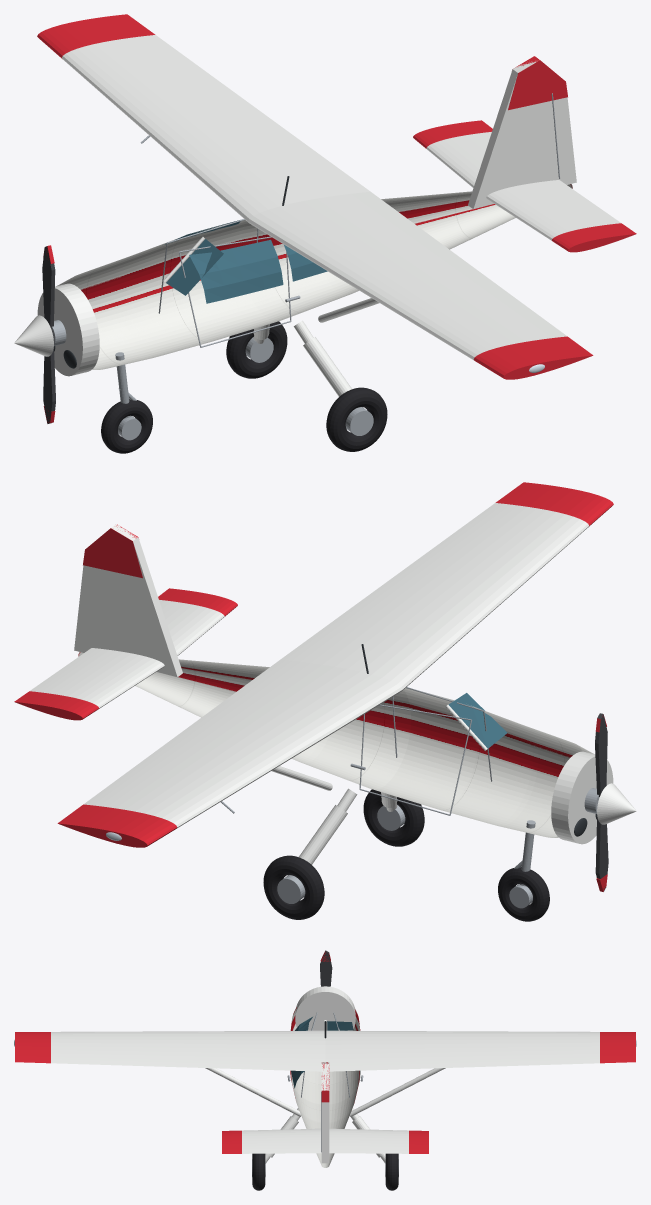
3 views of the same model, one above another, from view 1: azimuth 30°, elevation 25°; view 2: azimuth 150°, elevation 25°; view 3: azimuth 270°, elevation 25° (orthographic). The views are drawn at different scales.
Visible parts, largest first — view 1: Wing_Main_White, Fuselage_Textured, Vertical_Stabilizer, Horizontal_Stabilizer, Window_Front_L, Engine_Cowling, Wing_Tip_L, Wing_Tip_R, Main_Wheel_Tire_L, Vertical_Stabilizer_Red_Tip, Main_Wheel_Tire_R, Nose_Wheel_Tire (+9 smaller); view 2: Wing_Main_White, Fuselage_Textured, Vertical_Stabilizer, Horizontal_Stabilizer, Engine_Cowling, Wing_Tip_R, Wing_Tip_L, Main_Wheel_Tire_R, Vertical_Stabilizer_Red_Tip, Main_Wheel_Tire_L, Nose_Wheel_Tire, Horizontal_Tip_R (+7 smaller); view 3: Wing_Main_White, Horizontal_Stabilizer, Fuselage_Textured, Engine_Cowling, Wing_Tip_R, Wing_Tip_L, Vertical_Stabilizer, Wing_Strut_R, Wing_Strut_L, Main_Wheel_Tire_R, Main_Wheel_Tire_L, Horizontal_Tip_R (+2 smaller).
Part boxes in pixels (x1,y1,x2,y2): Wing_Main_White: (62, 35, 567, 360); Fuselage_Textured: (56, 184, 572, 369); Vertical_Stabilizer: (468, 61, 576, 209); Horizontal_Stabilizer: (426, 132, 621, 240); Window_Front_L: (189, 239, 283, 303); Engine_Cowling: (37, 283, 99, 376); Wing_Tip_L: (473, 336, 593, 379); Wing_Tip_R: (37, 14, 155, 58); Main_Wheel_Tire_L: (326, 387, 387, 451); Vertical_Stabilizer_Red_Tip: (508, 56, 567, 110); Main_Wheel_Tire_R: (226, 321, 287, 378); Nose_Wheel_Tire: (101, 399, 152, 453); Wing_Main_White: (83, 503, 588, 828); Fuselage_Textured: (78, 652, 594, 837); Vertical_Stabilizer: (74, 524, 182, 677); Horizontal_Stabilizer: (29, 600, 224, 708); Engine_Cowling: (551, 751, 613, 844); Wing_Tip_R: (57, 804, 177, 847); Wing_Tip_L: (495, 482, 613, 526); Main_Wheel_Tire_R: (263, 855, 324, 919); Vertical_Stabilizer_Red_Tip: (83, 524, 142, 578); Main_Wheel_Tire_L: (363, 789, 424, 846); Nose_Wheel_Tire: (498, 867, 549, 921); Horizontal_Tip_R: (14, 691, 98, 720); Wing_Main_White: (51, 1030, 599, 1071); Horizontal_Stabilizer: (242, 1128, 408, 1153); Fuselage_Textured: (290, 999, 360, 1167); Engine_Cowling: (295, 986, 355, 1030); Wing_Tip_R: (600, 1032, 635, 1063); Wing_Tip_L: (15, 1032, 50, 1063); Vertical_Stabilizer: (321, 1062, 329, 1163); Wing_Strut_R: (349, 1068, 445, 1116); Wing_Strut_L: (205, 1068, 301, 1116); Main_Wheel_Tire_R: (385, 1153, 398, 1190); Main_Wheel_Tire_L: (252, 1153, 265, 1190); Horizontal_Tip_R: (409, 1130, 428, 1153).
Bounding box in the file's own units: 7.63 × 3.9 × 11.03.
9 materials, 1 textured.
